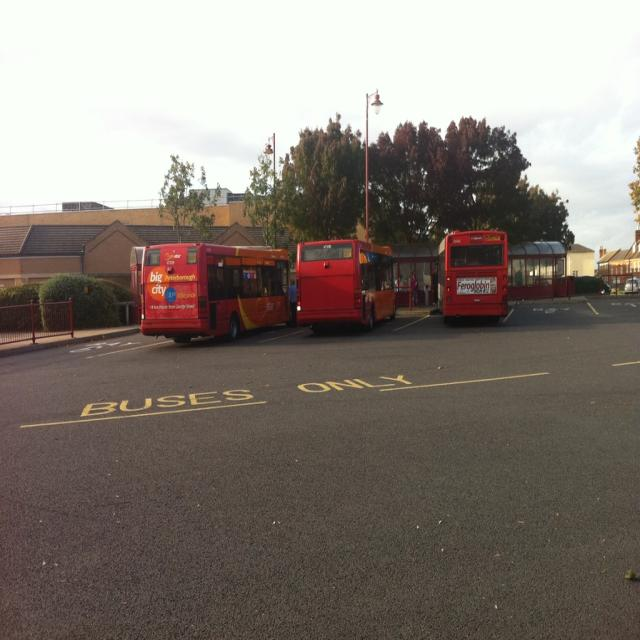Buses: (141, 242, 291, 348), (296, 240, 398, 336), (437, 228, 508, 324)
